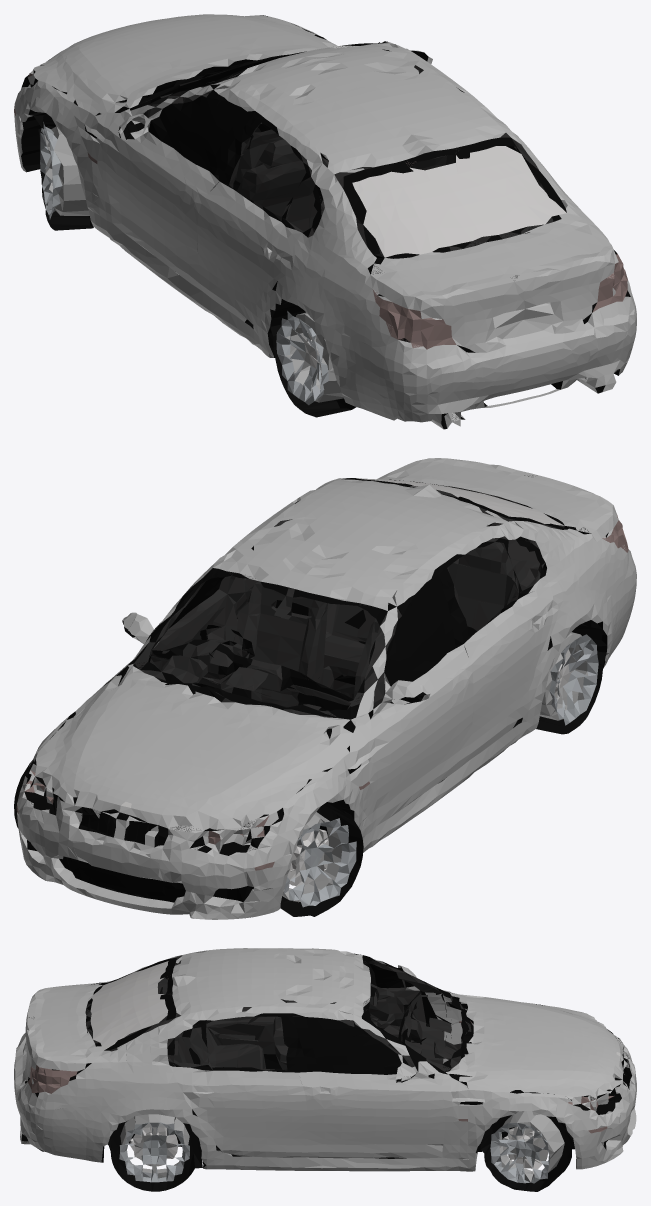
Rendered from bmw_sedan.obj.
3 views of the same model, one above another, from view 1: azimuth 30°, elevation 25°; view 2: azimuth 150°, elevation 25°; view 3: azimuth 270°, elevation 25° (orthographic). The views are drawn at different scales.
Size of the model in its own units: 1.95 by 1.39 by 4.6.
